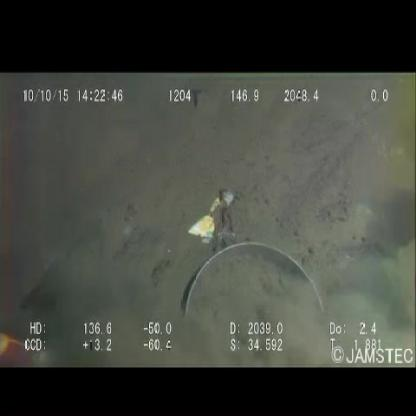Rác: (186, 187, 238, 246)
